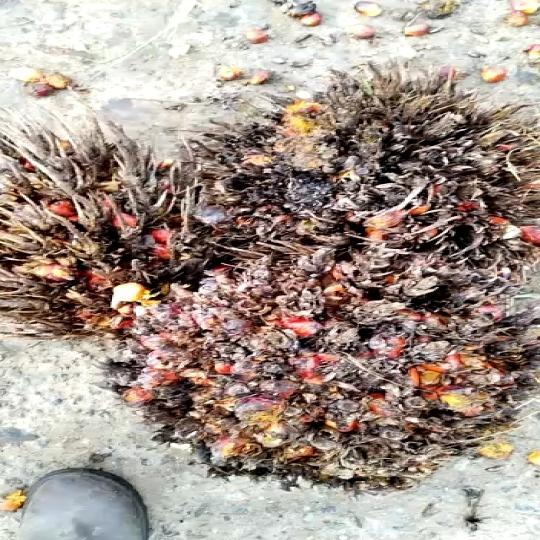terlalu masak: (77, 219, 540, 489), (143, 64, 540, 277)
